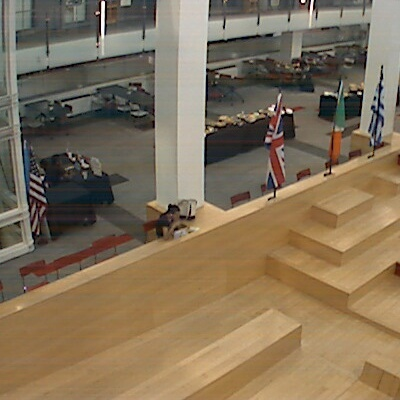head: (165, 203, 182, 222)
